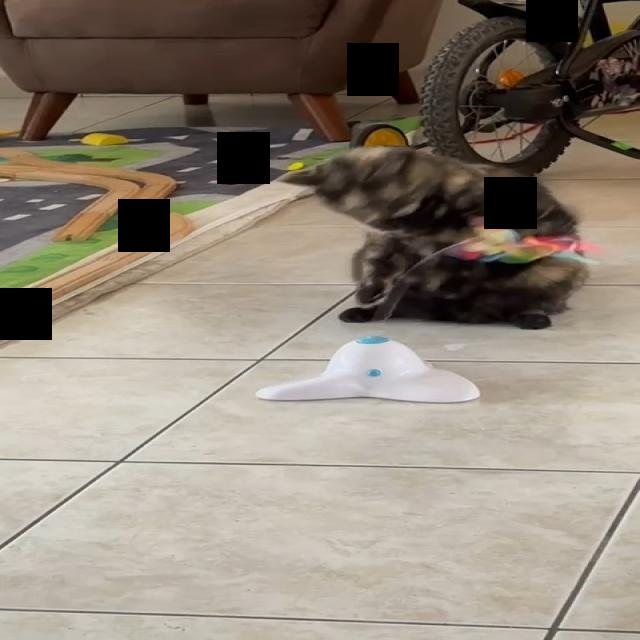authorized: (276, 144, 591, 329)
